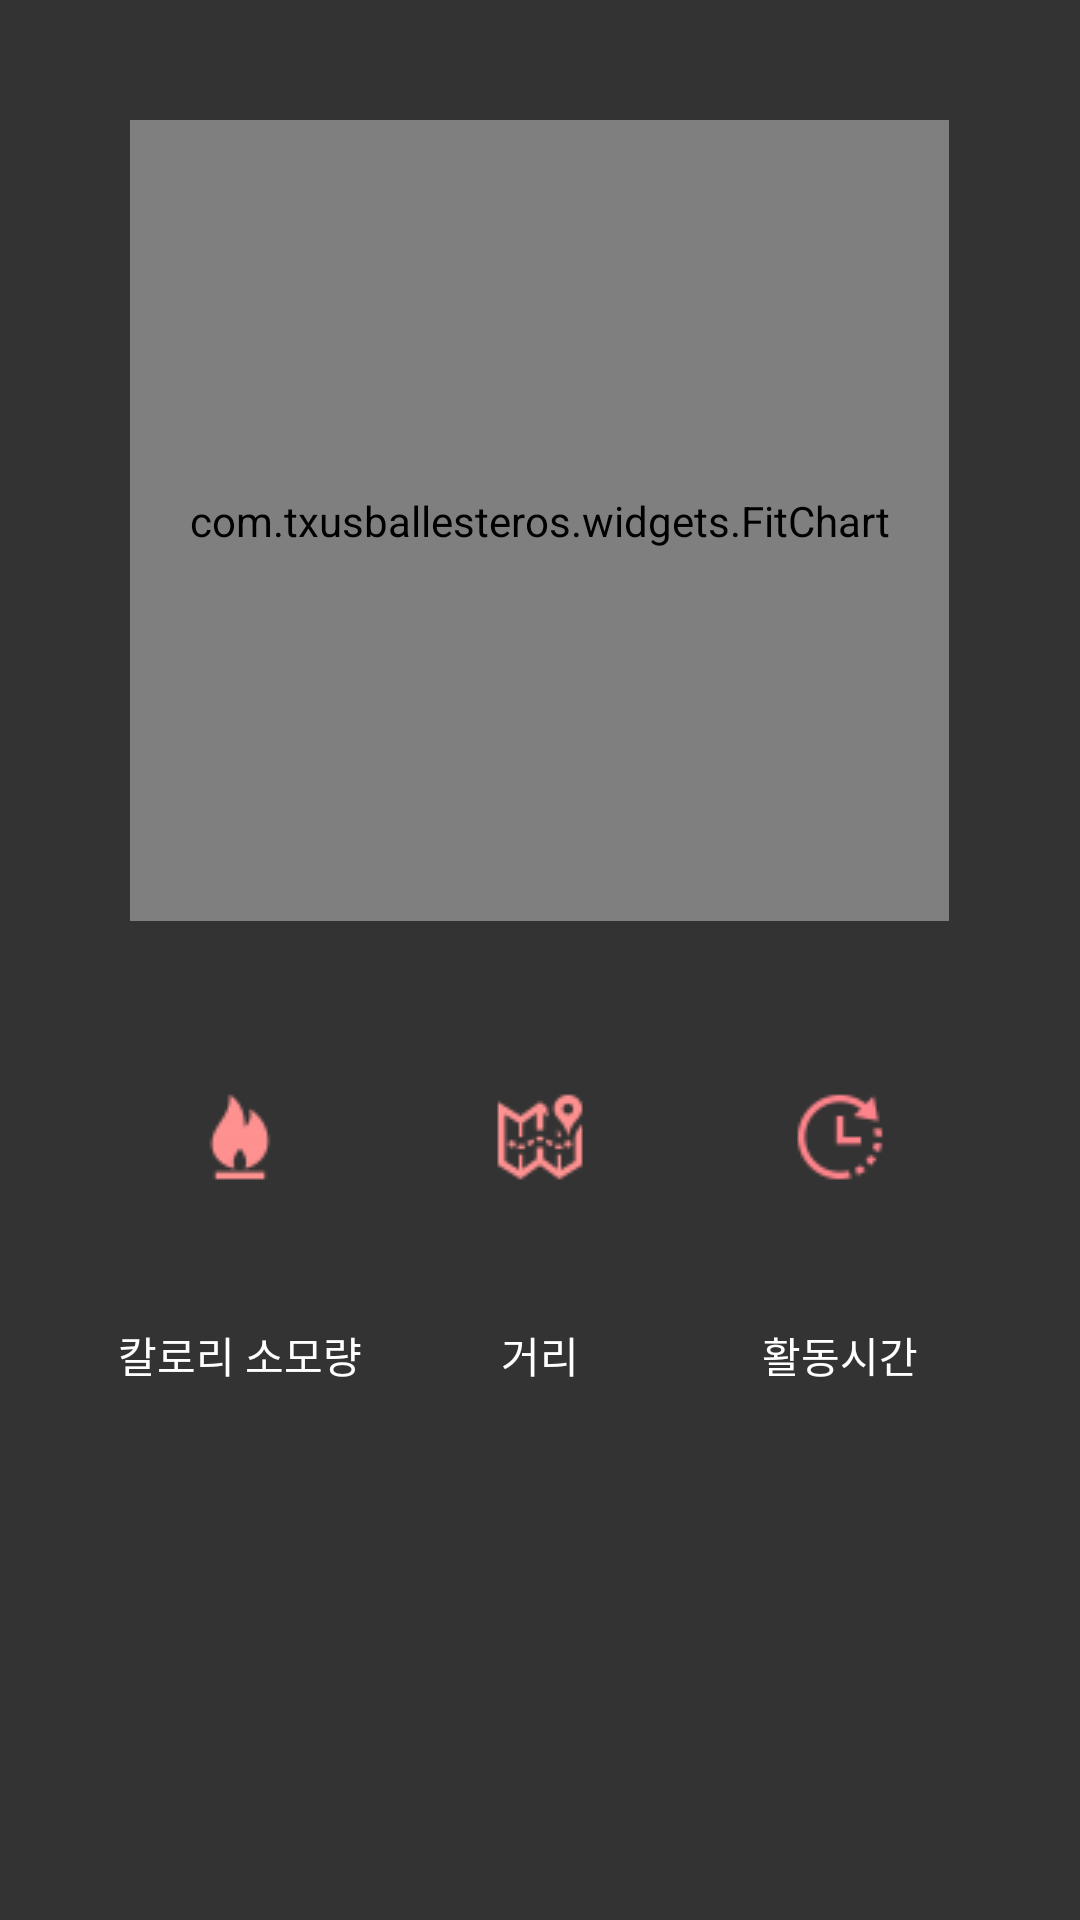

Screen size 1080w x 1920h. Icon name, then its box in pixels as (x1=x1, y1=y1, x2=x2, y2=y2):
burn: (x1=210, y1=1094, x2=270, y2=1180)
time: (x1=797, y1=1094, x2=883, y2=1180)
